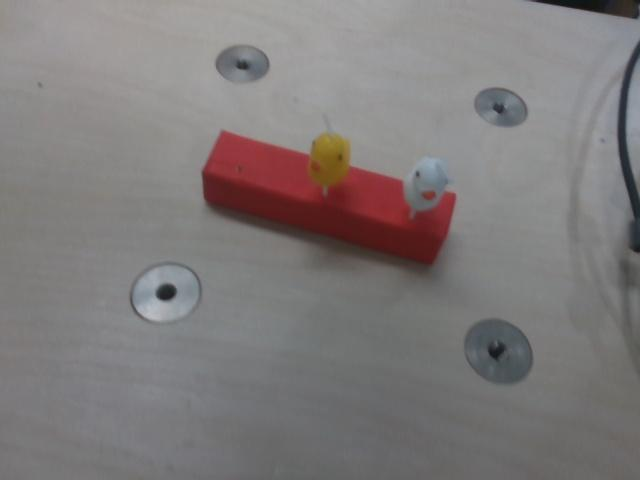w_duck: (401, 155, 449, 210)
y_duck: (310, 131, 350, 187)
